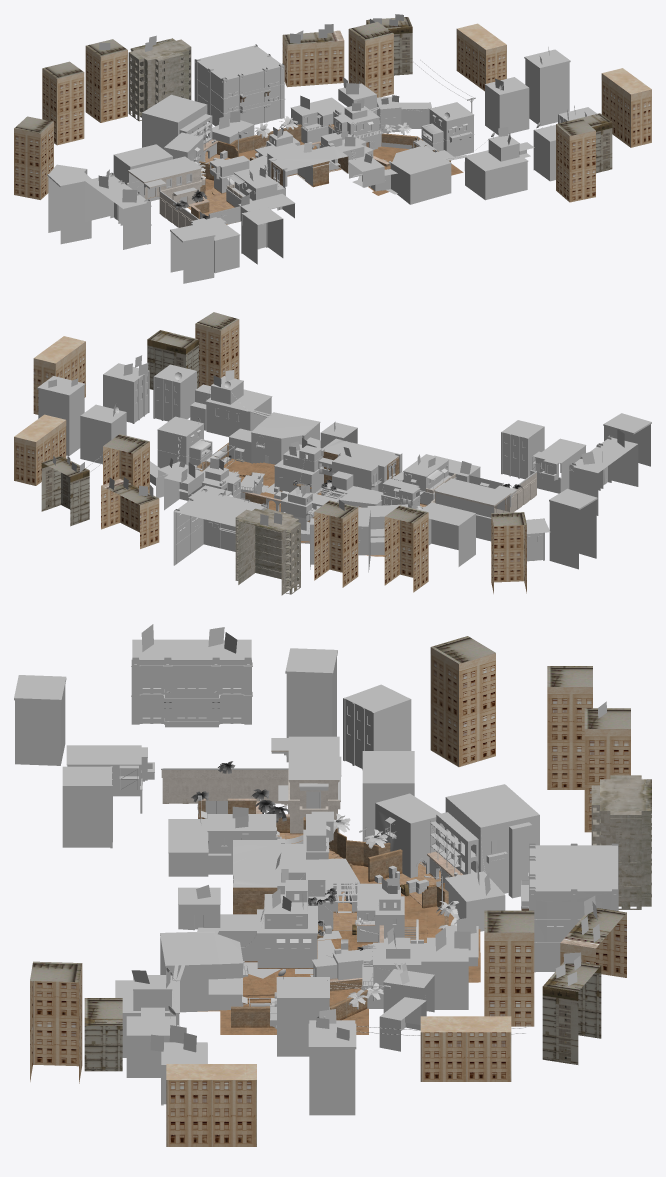
The model's file is Sandyards.fbx.
3 renders of one model, top to bottom at view 1: azimuth 30°, elevation 25°; view 2: azimuth 150°, elevation 25°; view 3: azimuth 270°, elevation 25°, orthographic. The views are drawn at different scales.
Parts seen in each view (by area): view 1: Sandyards (×2), D; view 2: Sandyards (×2), D; view 3: Sandyards (×2), D.
Boxes of the visible parts, left/top/right/bottom form: Sandyards (×2): left=14, top=17, right=651, bottom=283; D: left=98, top=14, right=586, bottom=219; Sandyards (×2): left=14, top=312, right=651, bottom=595; D: left=48, top=355, right=624, bottom=530; Sandyards (×2): left=14, top=636, right=651, bottom=1146; D: left=131, top=624, right=643, bottom=1052.
Size of the model in its own units: 148 by 25.28 by 95.39.
